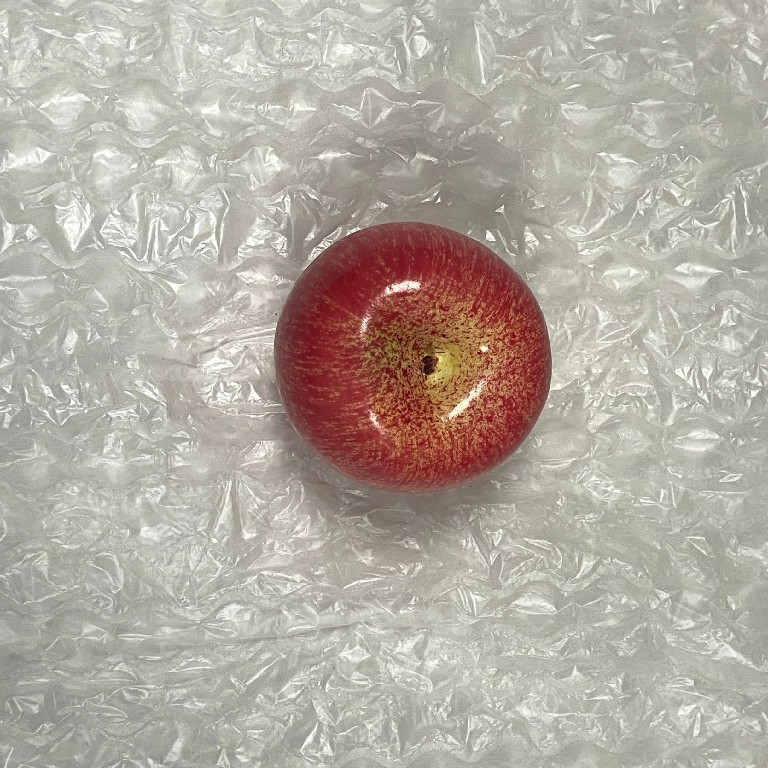fruit_apple: (271, 220, 555, 498)
